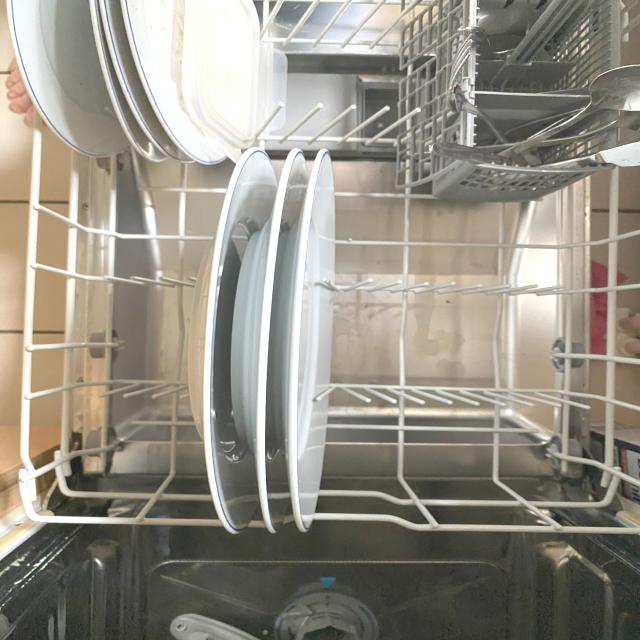clutery_bin: (449, 0, 636, 165)
empty_slot: (335, 173, 629, 521), (32, 143, 189, 521), (255, 0, 413, 153)
